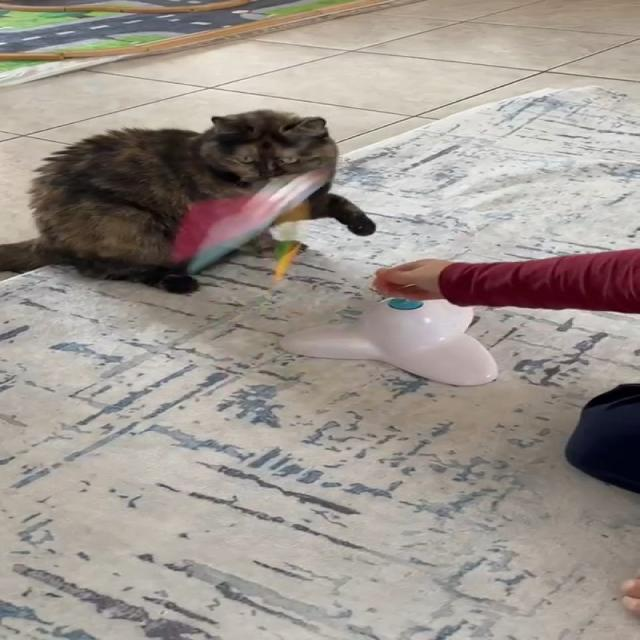authorized: (0, 108, 376, 294)
